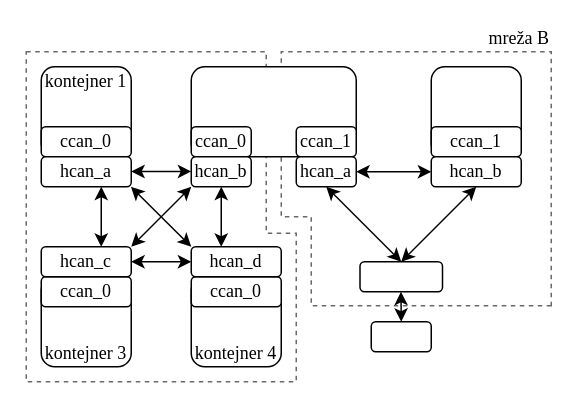
This 578x408 diagram has some shape labels left out. The box of each missing label's shape, as (x1, y1, x2, y2) in pixels:
host_if: (370, 320, 431, 352)
host_if par: (358, 260, 442, 292)
kontejner 2: (190, 65, 356, 157)
kontejner 5: (430, 65, 521, 157)
mreža A: (25, 50, 326, 382)
